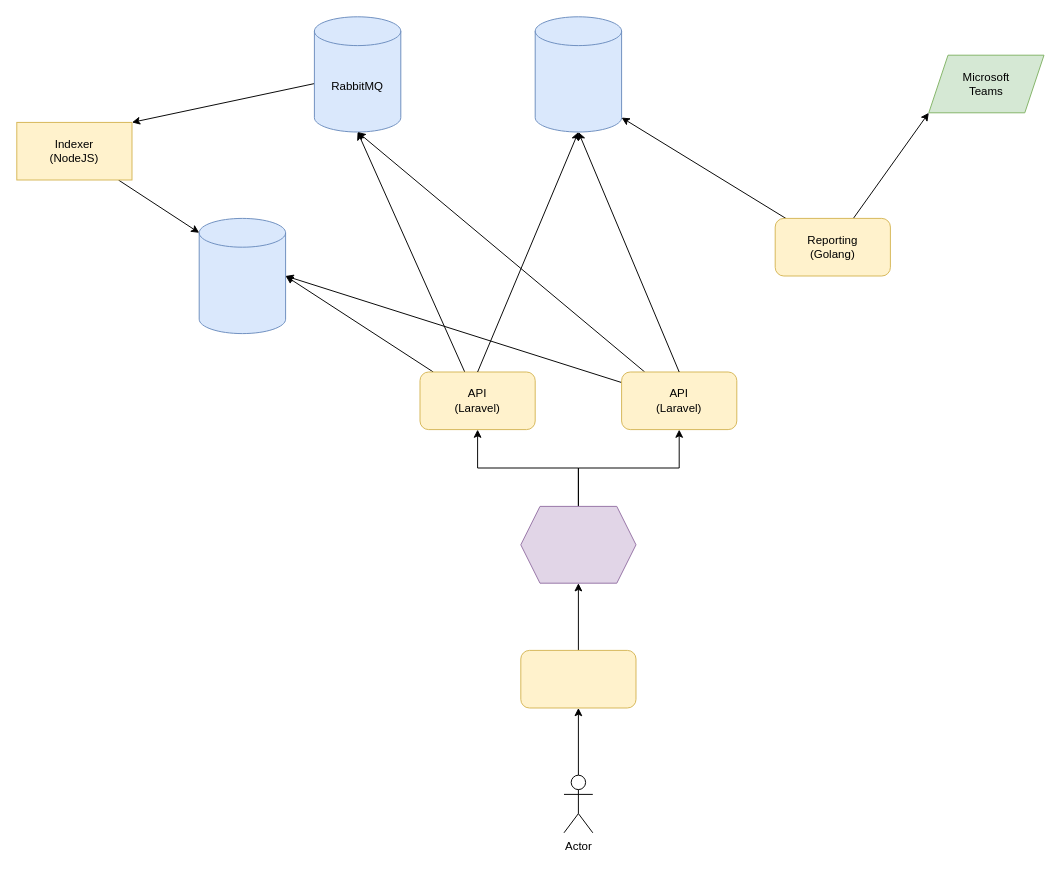
Some shapes in this 1061 by 870 pixel diagram are drawn without their labels. Each missing label, with the centre of its shape:
Elasticsearch: [242,275]
Frontend (Angular): [578,678]
Load balancer: [578,544]
MySQL: [578,74]
